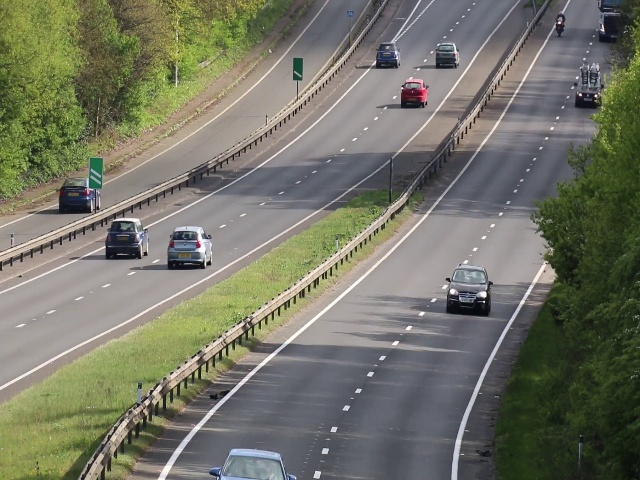car: (445, 263, 492, 317), (168, 223, 215, 270), (104, 216, 150, 260), (59, 174, 101, 211), (574, 67, 602, 107), (401, 75, 427, 108), (373, 40, 401, 67), (435, 42, 460, 66)
